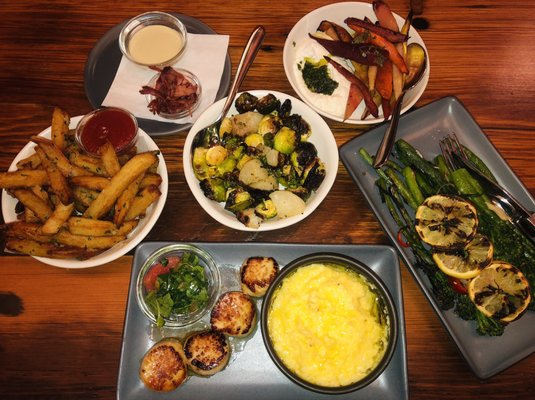salad: (373, 28, 430, 168)
sushi: (342, 95, 535, 382), (184, 88, 340, 233), (281, 0, 429, 147), (259, 249, 402, 396), (133, 241, 223, 332), (118, 11, 188, 71)
